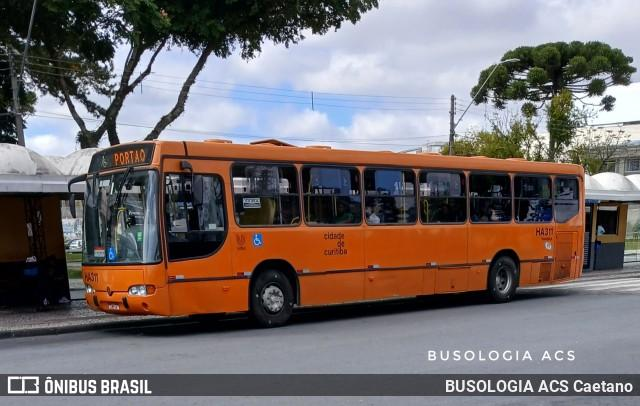PORTAO: (109, 145, 148, 169)
